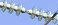gap: (15, 3, 37, 20)
